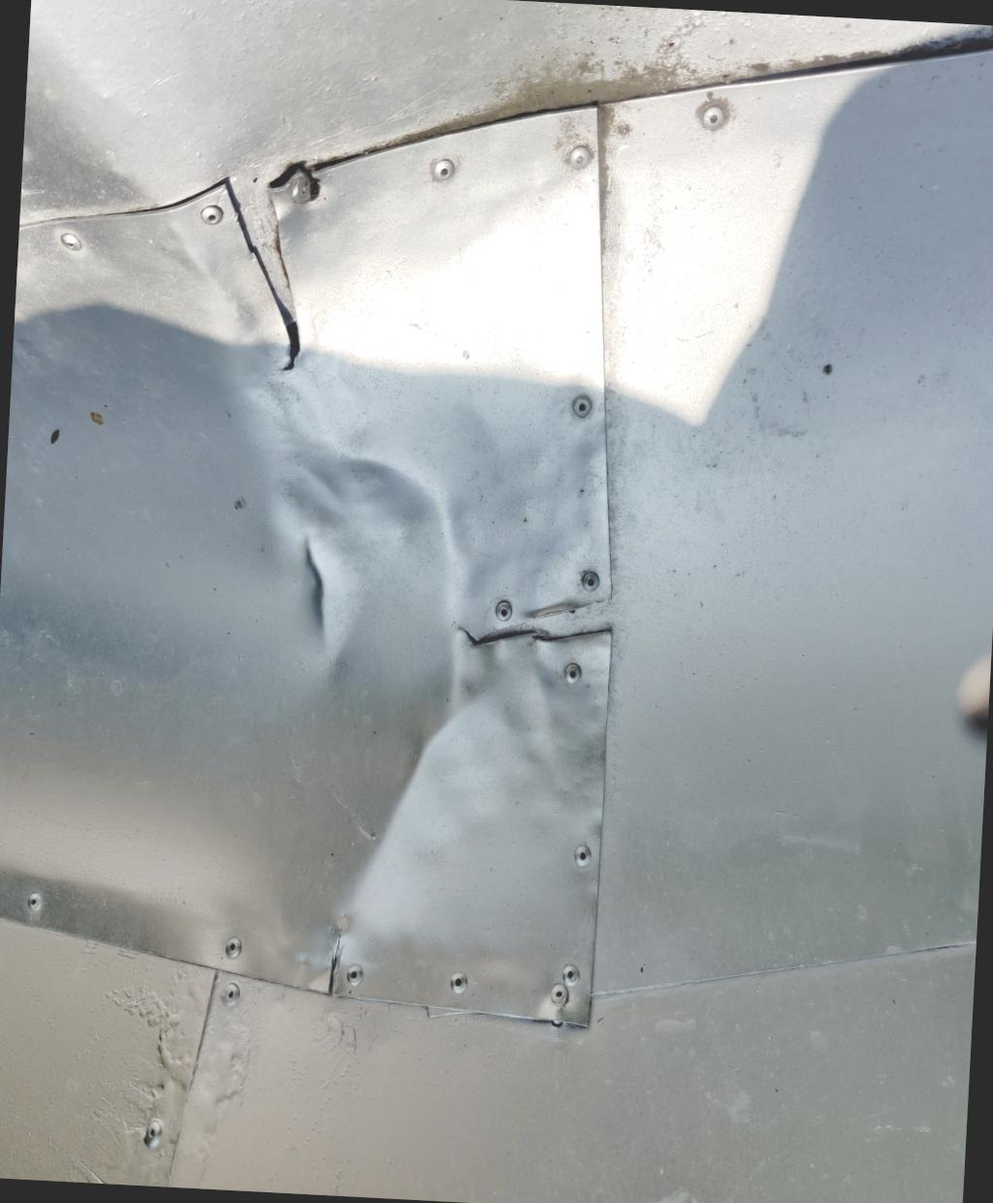crack: (175, 130, 355, 400), (437, 565, 627, 696), (313, 912, 363, 1009)
dent: (138, 369, 501, 983)
